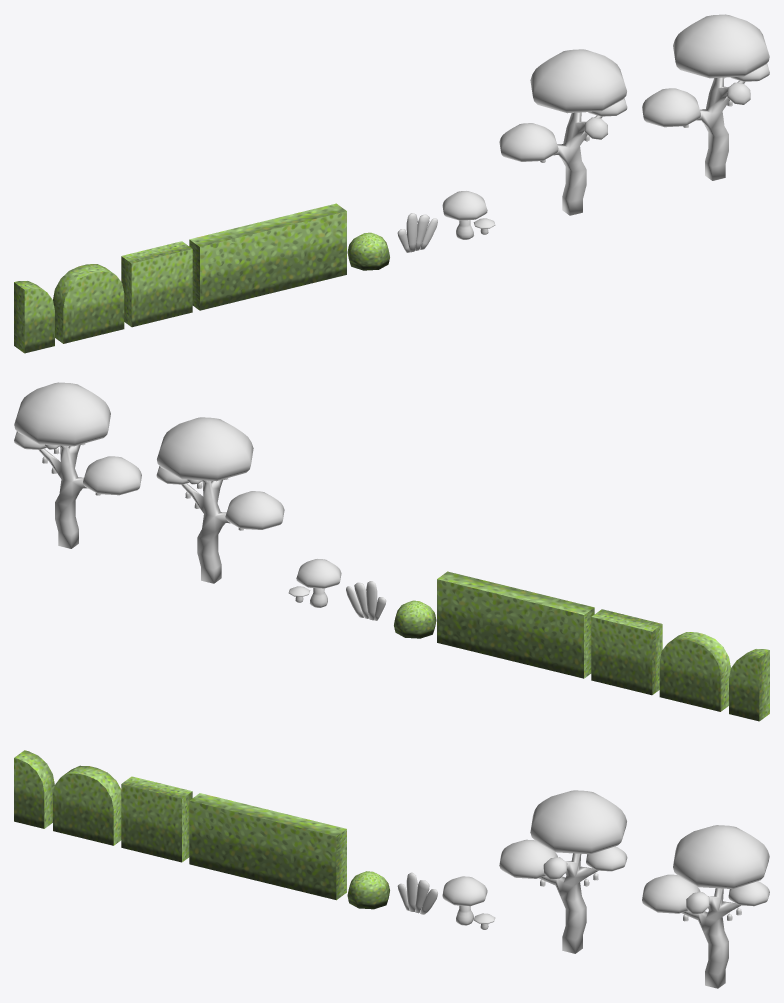
Rendered from env assets 1.fbx.
3 renders of one model, top to bottom at view 1: azimuth 30°, elevation 25°; view 2: azimuth 150°, elevation 25°; view 3: azimuth 330°, elevation 25°, orthographic.
Parts seen in each view (by area): view 1: Cube.002, Cube.005, Cube.006, Cube.001, Cube.003, Cube, Circle.005, Sphere, Circle.004; view 2: Cube.002, Cube.005, Cube.006, Cube.001, Cube.003, Cube, Circle.005, Sphere, Circle.004; view 3: Cube.002, Cube.005, Cube.006, Cube.001, Cube.003, Cube, Circle.005, Sphere, Circle.004.
Boxes of the visible parts, x1,y1,x2,y2 form: Cube.002: (189, 203, 346, 310); Cube.005: (499, 49, 627, 215); Cube.006: (642, 14, 769, 180); Cube.001: (121, 241, 192, 327); Cube.003: (53, 264, 124, 343); Cube: (14, 281, 54, 353); Circle.005: (442, 191, 487, 239); Sphere: (347, 232, 389, 270); Circle.004: (397, 213, 437, 252); Cube.002: (437, 571, 594, 678); Cube.005: (156, 417, 284, 583); Cube.006: (14, 382, 141, 548); Cube.001: (591, 609, 662, 695); Cube.003: (659, 632, 730, 711); Cube: (729, 649, 769, 721); Circle.005: (296, 559, 341, 607); Sphere: (394, 600, 436, 638); Circle.004: (346, 581, 386, 620); Cube.002: (189, 793, 346, 900); Cube.005: (499, 790, 627, 953); Cube.006: (642, 825, 769, 988); Cube.001: (121, 776, 192, 862); Cube.003: (53, 765, 121, 845); Cube: (14, 750, 54, 828); Circle.005: (442, 876, 487, 925); Sphere: (347, 871, 389, 909); Circle.004: (397, 872, 437, 914).
Bounding box in the file's own units: 2462 × 502 × 292.
